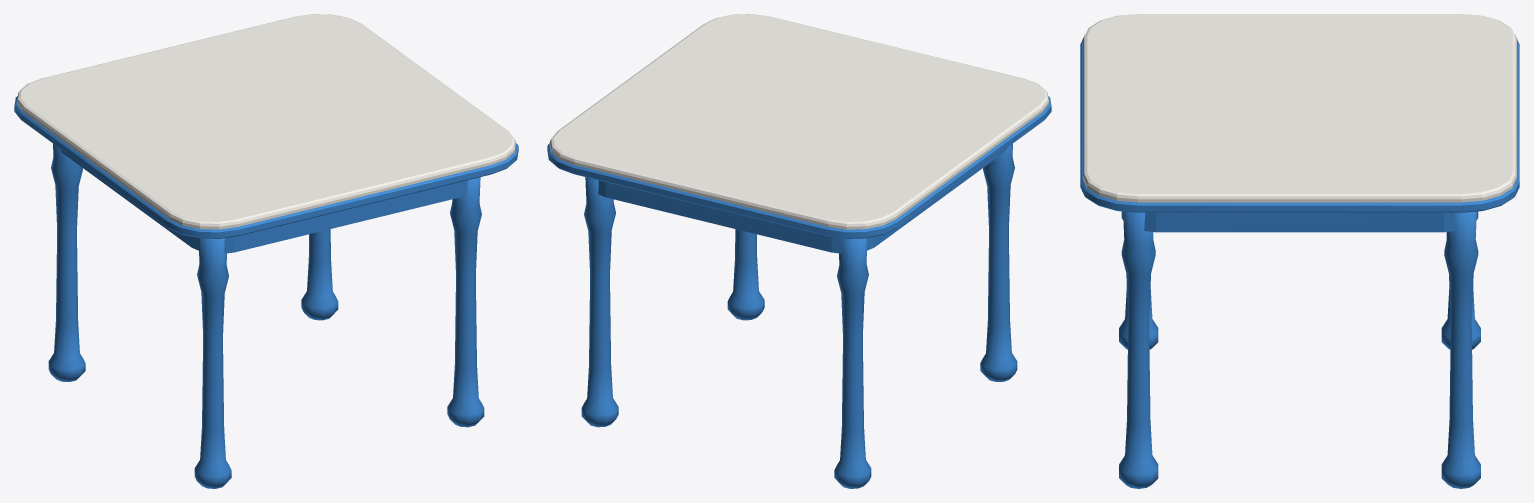
Rendered from kidsTable.glb.
3 views of the same model, side by side, from view 1: azimuth 30°, elevation 25°; view 2: azimuth 150°, elevation 25°; view 3: azimuth 270°, elevation 25° (orthographic). The views are drawn at different scales.
Parts seen in each view (by area): view 1: kidsTable; view 2: kidsTable; view 3: kidsTable.
Boxes of the visible parts, bbox=[...] form: kidsTable: bbox=[14, 14, 518, 488]; kidsTable: bbox=[547, 14, 1051, 488]; kidsTable: bbox=[1080, 14, 1519, 488].
Size of the model in its own units: 0.64 by 0.5 by 0.64.
